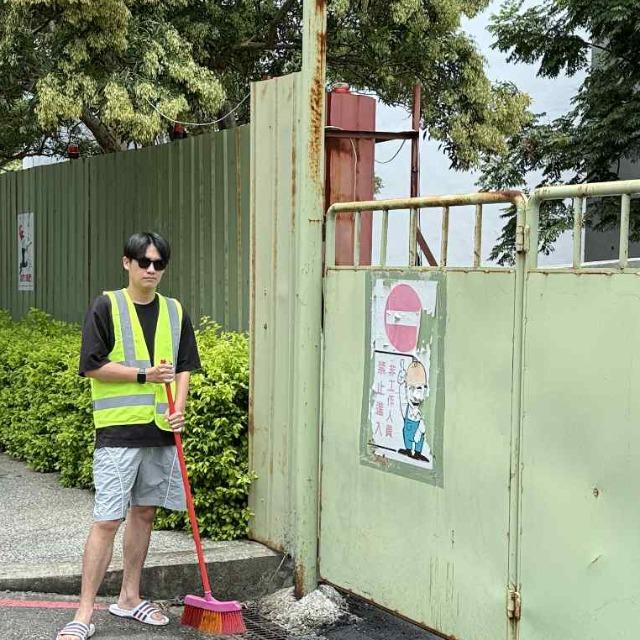NoHelmet: (119, 228, 174, 293)
Vest: (83, 291, 193, 438)
